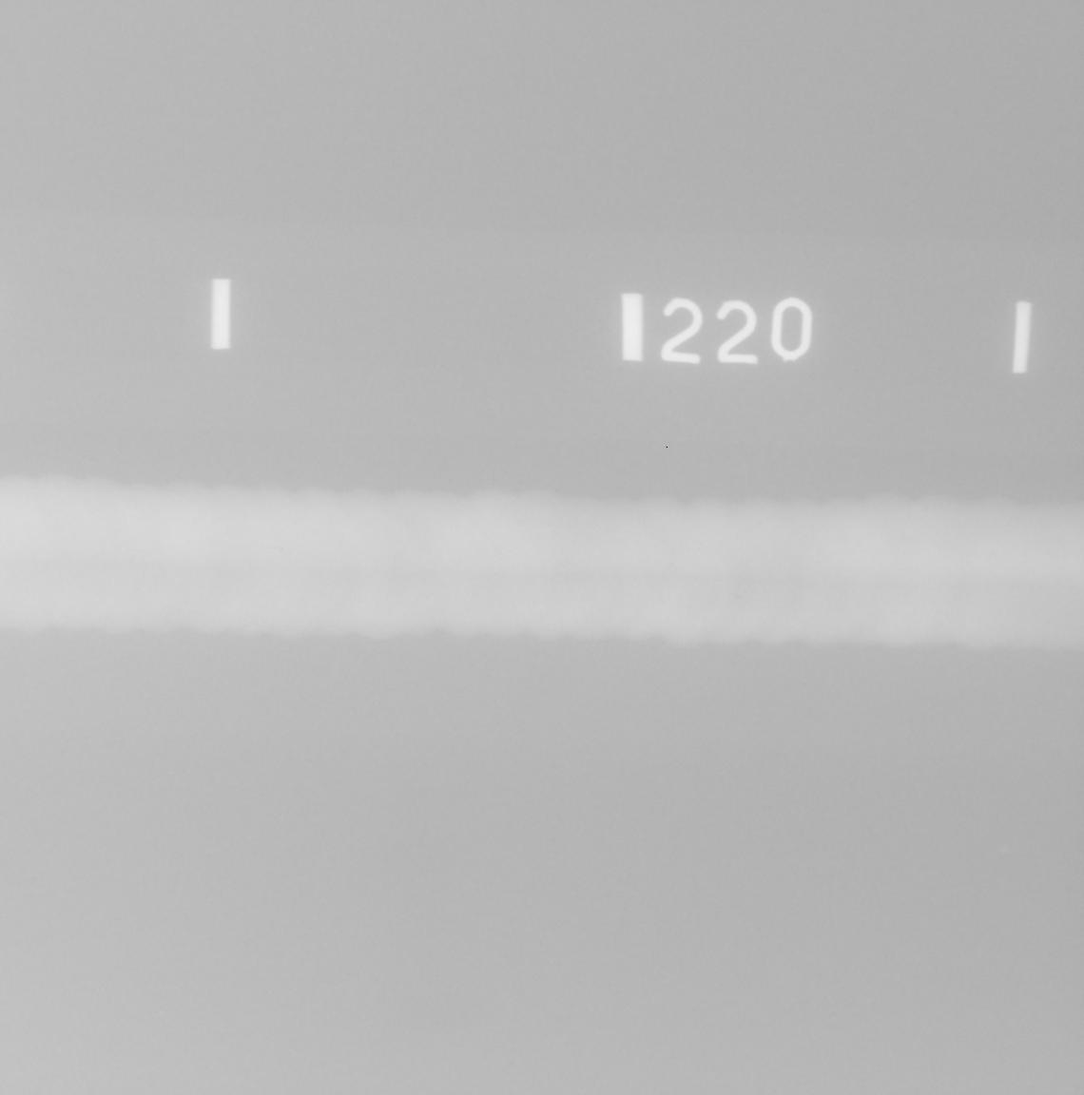Pore/Porosity: (276, 546, 284, 553), (757, 521, 762, 526), (736, 596, 740, 599)
